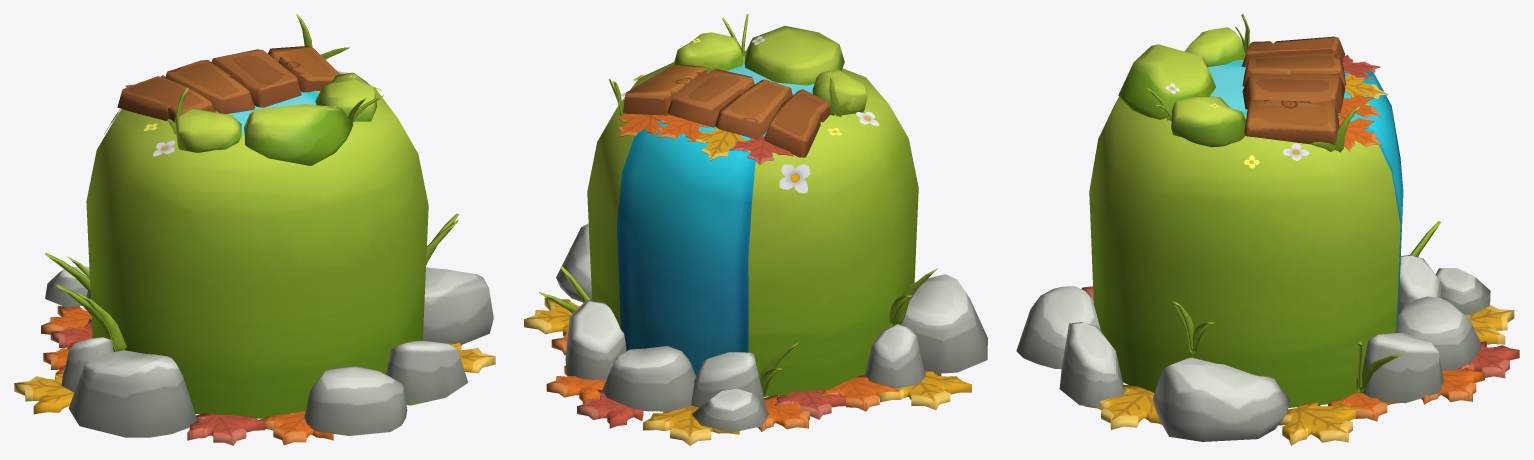
File: ParkPathOdysseyStatue.fbx
The picture shows the model from 3 angles, left to right: view 1: azimuth 30°, elevation 25°; view 2: azimuth 150°, elevation 25°; view 3: azimuth 270°, elevation 25°; orthographic projection. The views are drawn at different scales.
Visible parts, largest first — view 1: ParkPath; view 2: ParkPath; view 3: ParkPath.
Boxes of the visible parts, x1,y1,x2,y2 form: ParkPath: (14,14,495,445); ParkPath: (524,14,987,445); ParkPath: (1016,14,1519,445).
Bounding box in the file's own units: 23.5 × 15.2 × 23.22.
Materials: 1 (1 with a texture image).
